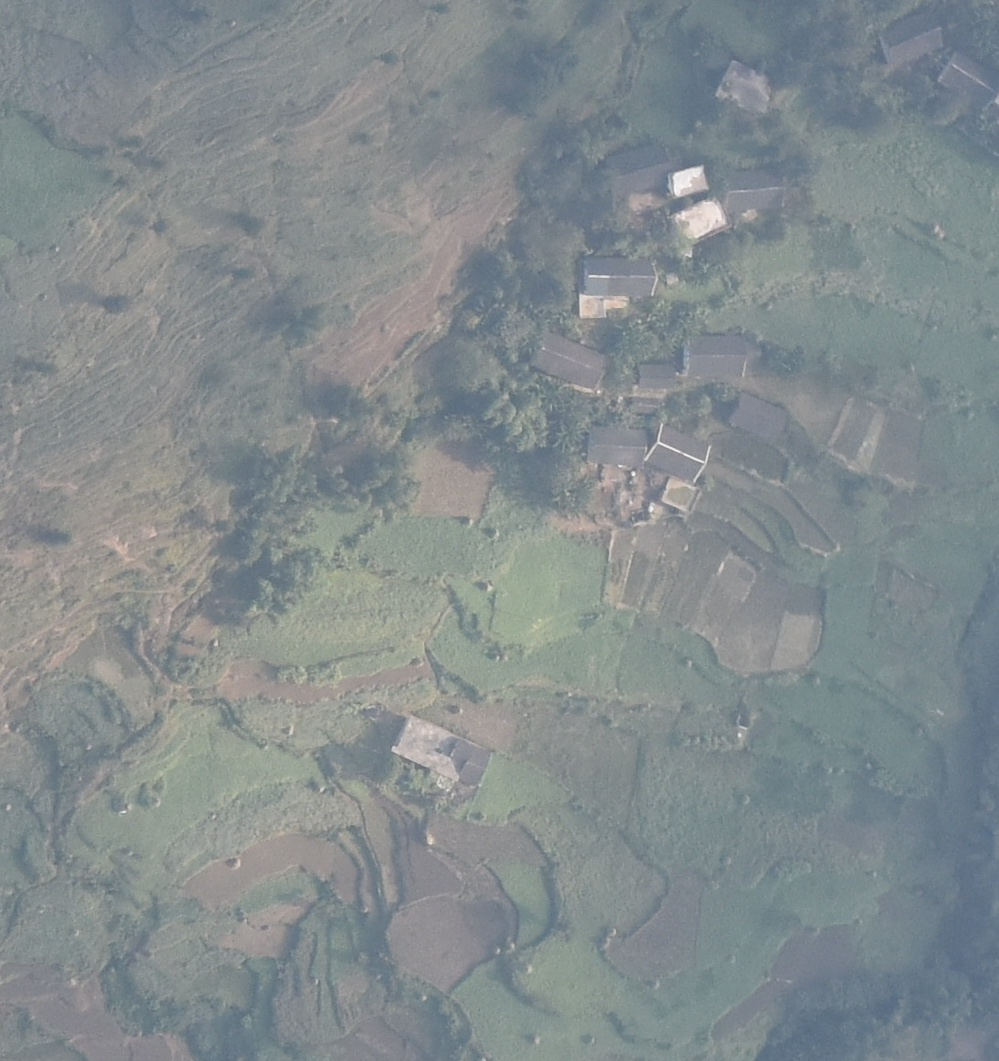building: (391, 711, 495, 787), (529, 332, 610, 390), (648, 423, 713, 485), (714, 60, 783, 115), (877, 11, 945, 65), (939, 49, 999, 109), (663, 196, 732, 242), (581, 254, 658, 295), (607, 145, 670, 195), (729, 392, 789, 440), (683, 335, 749, 376), (722, 170, 788, 210), (587, 426, 648, 466), (668, 166, 714, 197), (661, 477, 699, 513), (638, 363, 678, 388), (578, 295, 607, 317)
